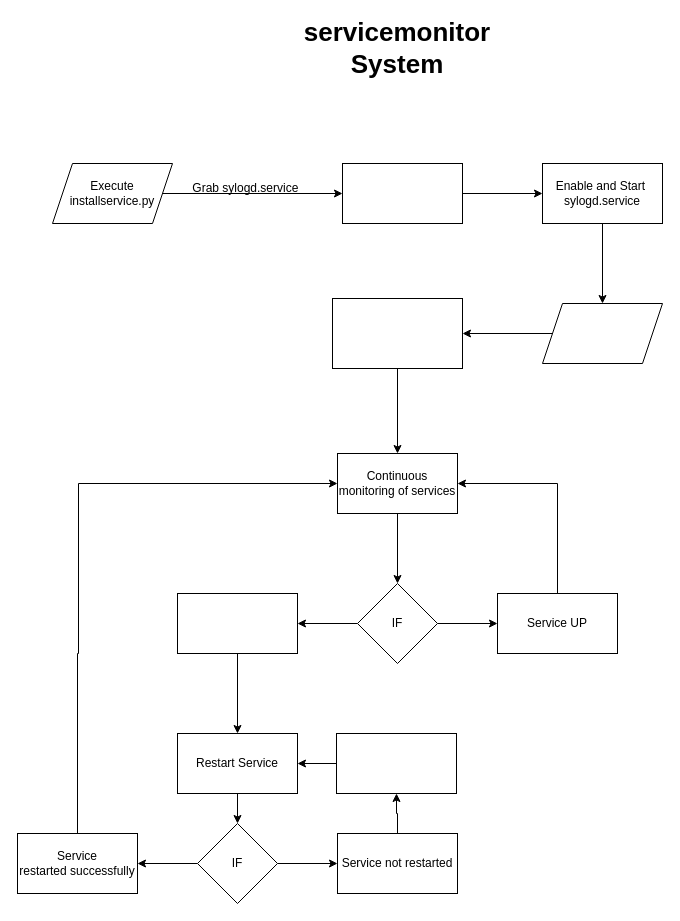
Image size: 680x921. Some labels were removed from this diagram. The shapes that lost their labels are listed below. From the top down, each one's centre as x and y in pixels, then its label:
pixel 402 193: Store sylogd.service on default dir
pixel 397 333: Load the "services.cfg" content
pixel 602 333: Execute sylogd.py
pixel 237 623: Service DOWN
pixel 396 763: Wait 5 seconds
